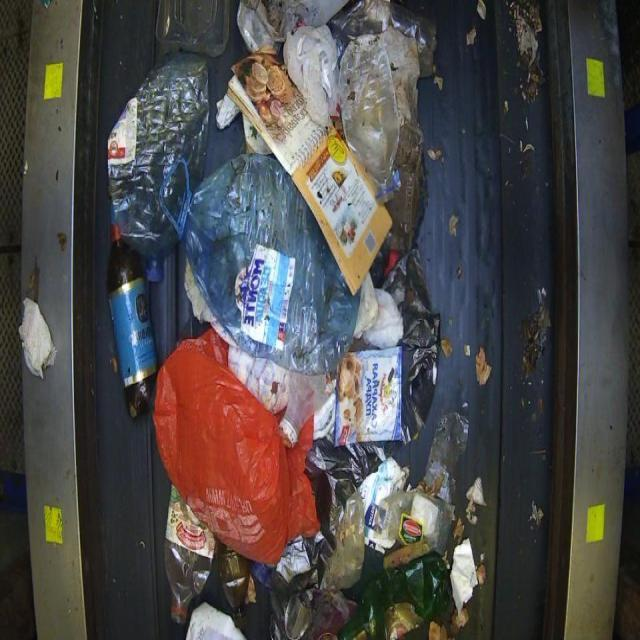bottles: (106, 222, 159, 420)
cardboard: (225, 51, 393, 295)
trashbin: (18, 0, 632, 639)
